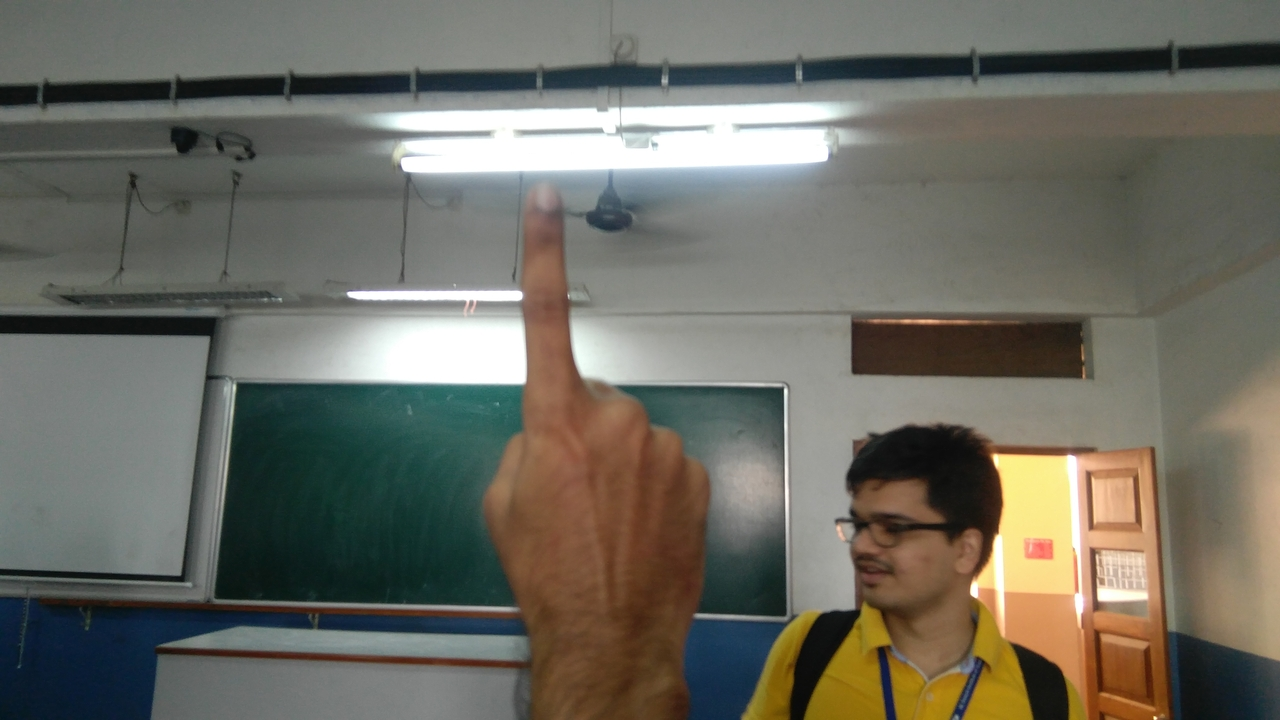fingertip: (512, 172, 568, 224)
